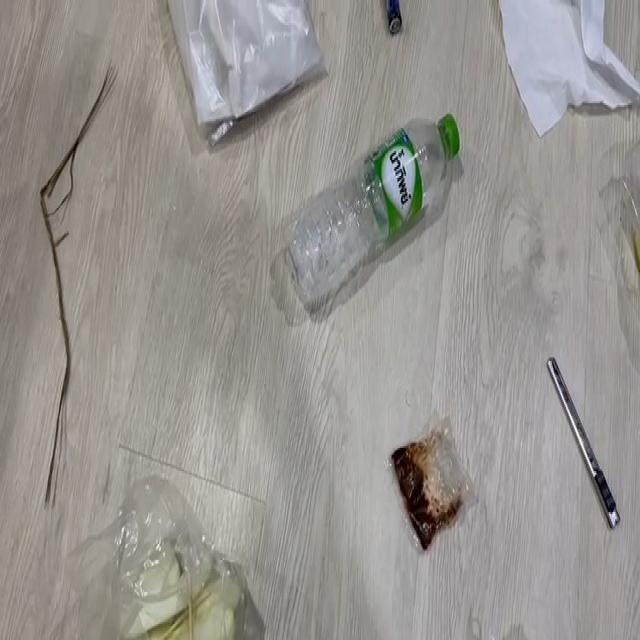Anorganik: (276, 110, 474, 310), (544, 356, 640, 536), (502, 0, 639, 98), (189, 0, 318, 83)
B3: (34, 51, 118, 472), (110, 531, 255, 632), (382, 410, 484, 543), (381, 0, 415, 34)
